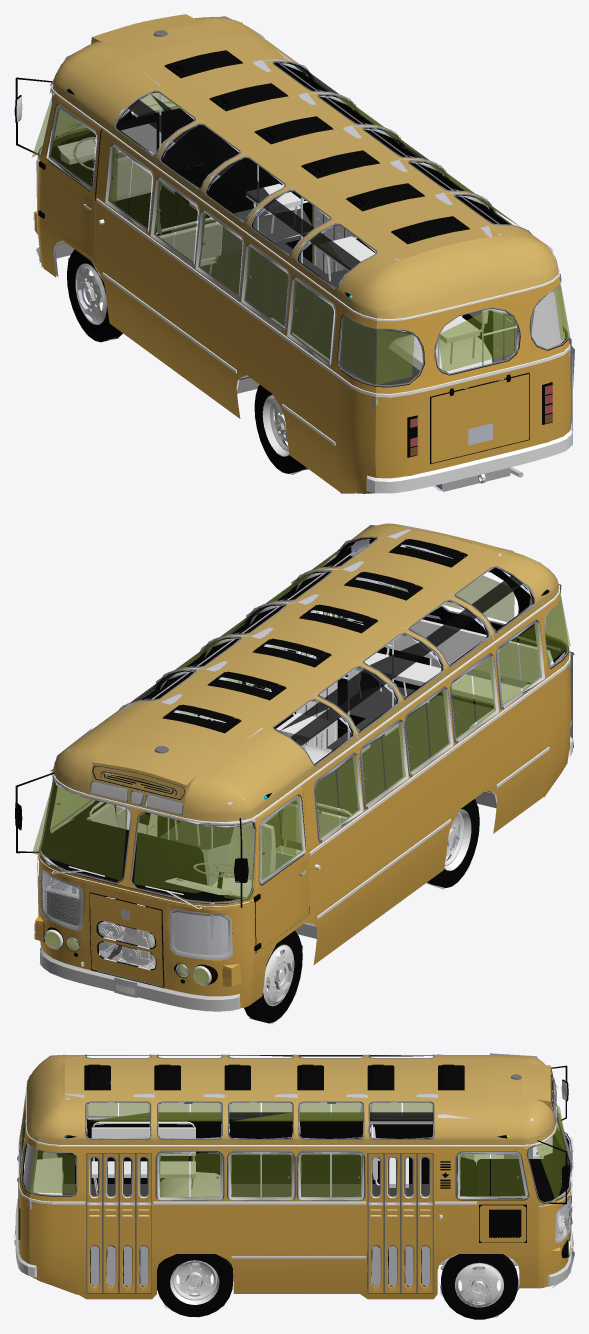
File: bus.glb
The picture shows the model from 3 angles, top to bottom: view 1: azimuth 30°, elevation 25°; view 2: azimuth 150°, elevation 25°; view 3: azimuth 270°, elevation 25°; orthographic projection. The views are drawn at different scales.
Parts seen in each view (by area): view 1: Material3.001; view 2: Material3.001; view 3: Material3.001.
Part boxes in pixels (x1,y1,x2,y2): Material3.001: [14, 14, 574, 493]; Material3.001: [15, 523, 574, 1024]; Material3.001: [14, 1053, 574, 1319].
Size of the model in its own units: 1.1 by 1.21 by 2.91.
Materials: 48 (1 with a texture image).
